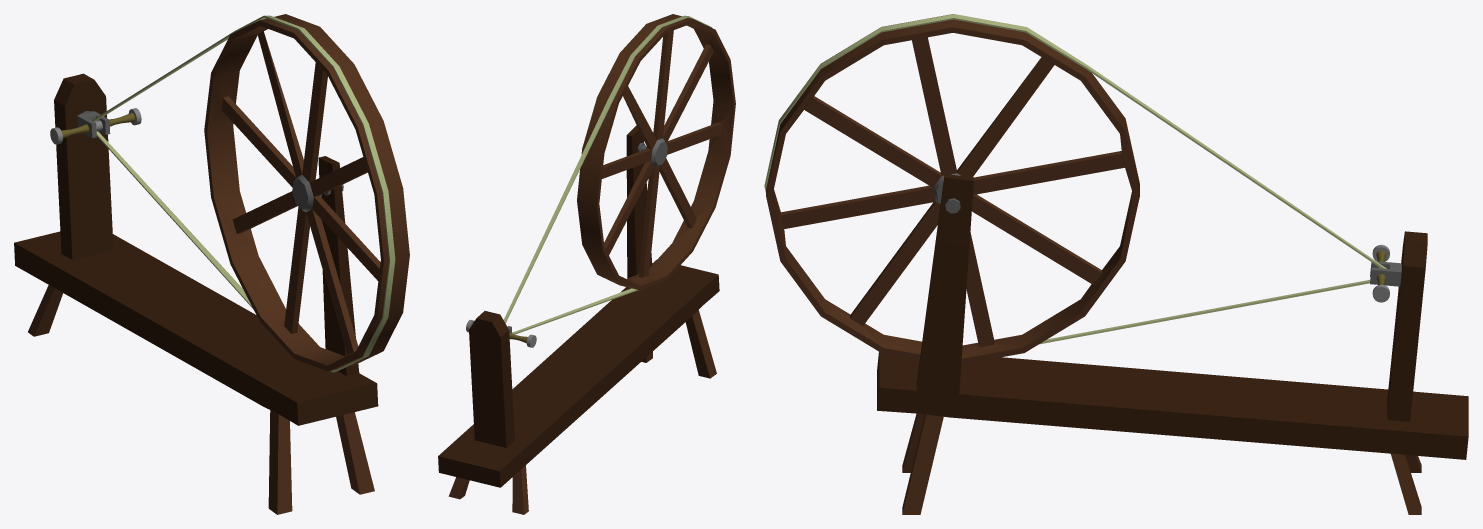
The model's file is SpinningWheel.fbx.
3 views of the same model, side by side, from view 1: azimuth 30°, elevation 25°; view 2: azimuth 150°, elevation 25°; view 3: azimuth 270°, elevation 25° (orthographic). The views are drawn at different scales.
Visible parts, largest first — view 1: SWheel-Whole; view 2: SWheel-Whole; view 3: SWheel-Whole.
Boxes of the visible parts, box(x1,y1,x2,y2) form: SWheel-Whole: box(14, 14, 409, 514); SWheel-Whole: box(438, 14, 735, 514); SWheel-Whole: box(764, 14, 1468, 514).
Bounding box in the file's own units: 0.3723 × 1.66 × 2.24.
